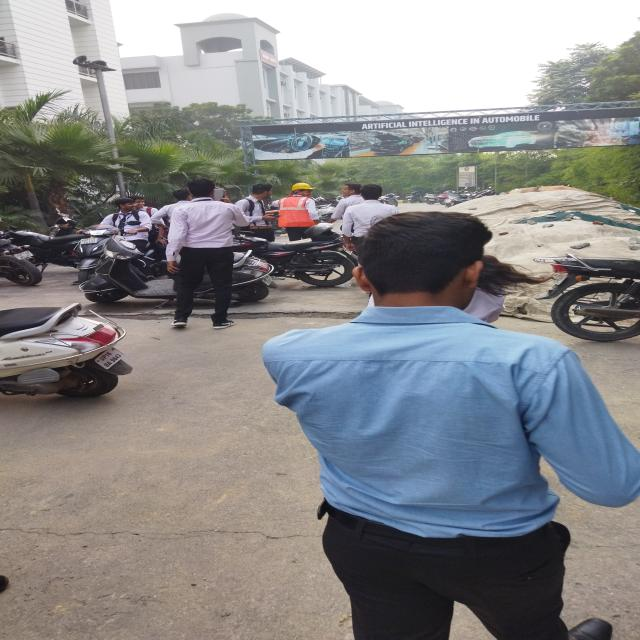safe: (280, 183, 314, 237)
unsafe: (259, 214, 640, 617), (173, 178, 234, 328), (102, 198, 152, 248), (238, 182, 278, 236), (348, 186, 384, 243)
